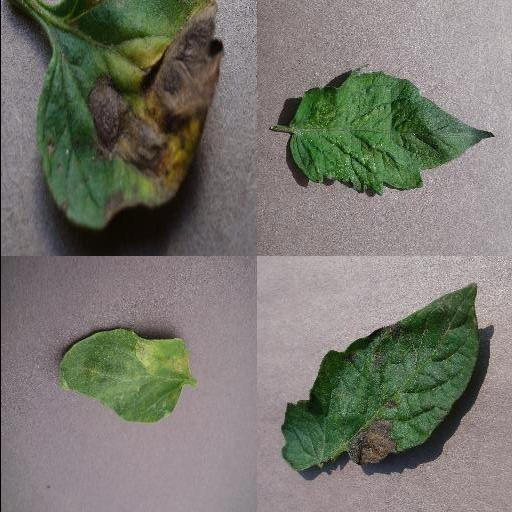Early Blight: (34, 1, 224, 231)
Late Blight: (279, 284, 479, 472), (56, 328, 192, 426)
Spider Mites: (287, 71, 495, 195)
